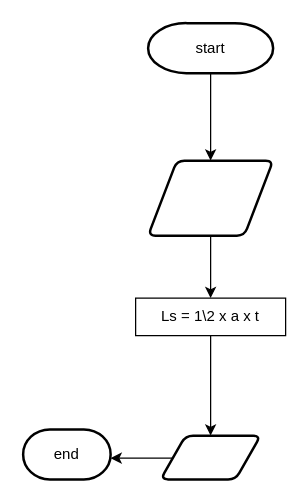
Image size: 308x501. Some labels were removed from this diagram. The box of each missing label's shape, as (x1, y1, x2, y2) in pixels:
Ls: (159, 434, 261, 480)
Ls a t: (146, 159, 274, 236)
